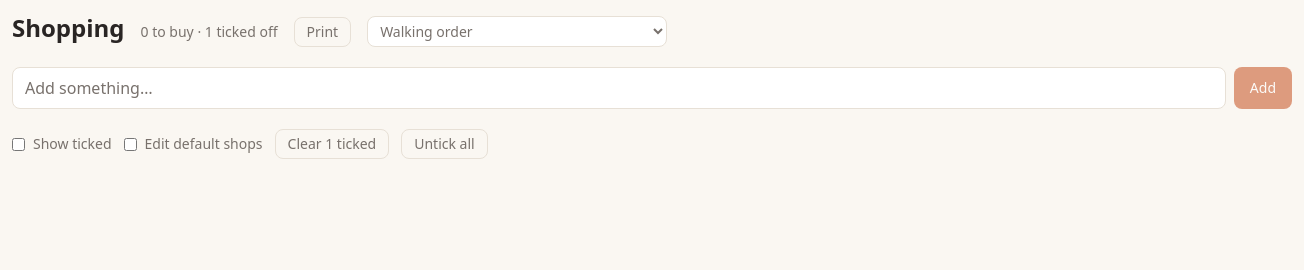
Test: ShoppingListPage printing › starts with the signed-in user's saved "Show ticked" preference, and persists a change to it
Expected: the text "Salmon" is not shown
Click the checkbox labelled "Show ticked".
click(18, 144)  # box [12,138,25,150]
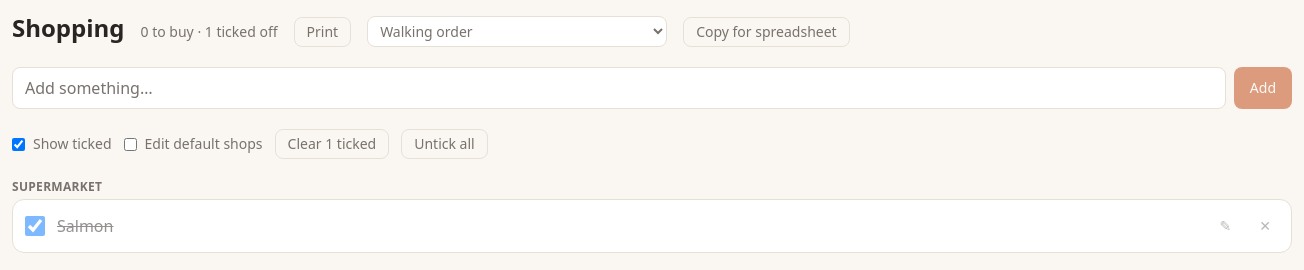
Expected: the text "Salmon" is shown, [57,215,113,237]
